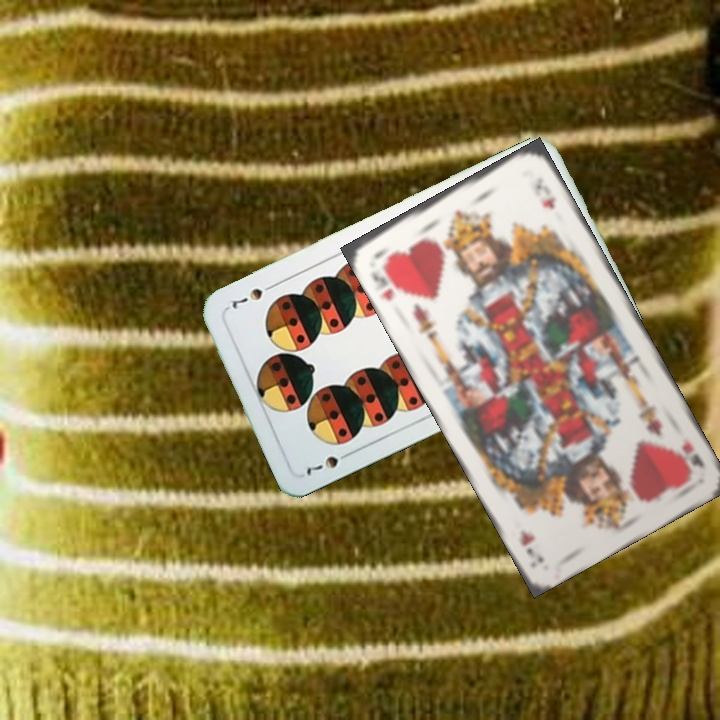HK: (367, 256, 402, 304), (677, 434, 708, 470)
S7: (302, 447, 356, 480)
